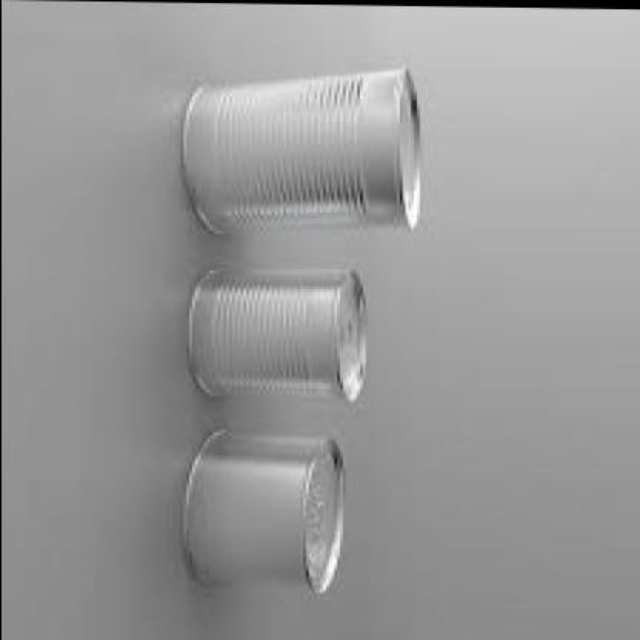trash: (183, 68, 420, 231), (183, 431, 342, 592), (189, 269, 365, 400)
